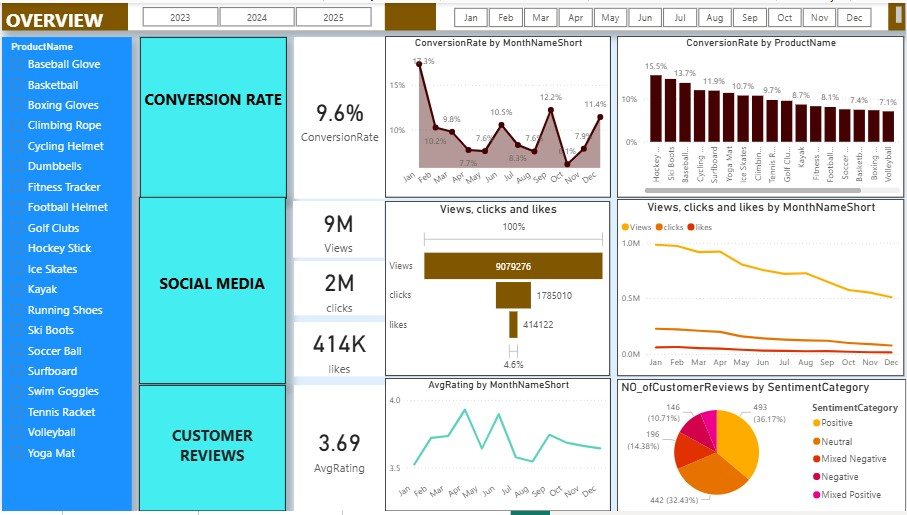

What the dashboard file says about the page in this screenshot:
{"tool":"powerbi","page":{"name":"Overview ","canvas":[1280,720],"ordinal":0},"visuals":[{"type":"textbox","box":[0,0,1280,38.8],"z":0},{"type":"slicer","fields":{"Values":["dim_products.ProductName"]},"box":[0,47.5,183.8,673.8],"z":1000},{"type":"textbox","box":[195,47.5,207.5,228.8],"z":2000},{"type":"textbox","box":[194.9,275.6,207.7,265.4],"z":3000},{"type":"textbox","box":[194.9,541,207.7,179.5],"z":4000},{"type":"card","fields":{"Values":["Calcultions_Measures.ConversionRate"]},"box":[413.8,47.5,130,228.8],"z":5000},{"type":"lineChart","fields":{"Y":["Calcultions_Measures.ConversionRate"],"Category":["Calendar.MonthNameShort"]},"box":[543.4,47,320.5,228.9],"z":6000},{"type":"card","fields":{"Values":["Calcultions_Measures.Views"]},"box":[412,280.7,128.9,79.5],"z":7000},{"type":"card","fields":{"Values":["Calcultions_Measures.clicks"]},"box":[413.3,366.3,128.9,77.1],"z":8000},{"type":"card","fields":{"Values":["Calcultions_Measures.likes"]},"box":[413.3,451.8,128.9,77.1],"z":9000},{"type":"card","fields":{"Values":["Calcultions_Measures.AvgRating"]},"box":[413.3,541,128.9,179.5],"z":10000},{"type":"slicer","fields":{"Values":["Calendar.Year"]},"box":[178.8,0,363.8,38.8],"z":11000},{"type":"slicer","fields":{"Values":["Calendar.MonthNameShort"]},"box":[615.7,0,641,38.6],"z":12000},{"type":"clusteredColumnChart","fields":{"Category":["dim_products.ProductName"],"Y":["Calcultions_Measures.ConversionRate"]},"box":[872.3,47,407.2,228.9],"z":13000},{"type":"funnel","fields":{"Y":["Calcultions_Measures.Views","Calcultions_Measures.clicks","Calcultions_Measures.likes"]},"box":[543.4,280.7,319.3,248.2],"z":14000},{"type":"lineChart","fields":{"Y":["Calcultions_Measures.Views","Calcultions_Measures.clicks","Calcultions_Measures.likes"],"Category":["Calendar.MonthNameShort"]},"box":[871.1,277.1,407.2,250.6],"z":15000},{"type":"lineChart","fields":{"Category":["Calendar.MonthNameShort"],"Y":["Calcultions_Measures.AvgRating"]},"box":[543.4,531.3,320.5,189.2],"z":16000},{"type":"pieChart","fields":{"Category":["fact_customer_reviews_with_sentiment.SentimentCategory"],"Y":["Calcultions_Measures.NO_ofCustomerReviews"]},"box":[871.1,532.5,409.6,189.2],"z":17001}]}

Visuals, with their boxes in screenshot pixels (x1, y1, x2, y2), scaled from the page's 1280x720 canvas onto the 907x515 screenshot:
textbox: rect(0, 0, 906, 28)
slicer - dim_products.ProductName: rect(0, 34, 130, 514)
textbox: rect(138, 34, 285, 198)
textbox: rect(138, 197, 285, 387)
textbox: rect(138, 387, 285, 514)
card - Calcultions_Measures.ConversionRate: rect(293, 34, 385, 198)
lineChart - Calcultions_Measures.ConversionRate x Calendar.MonthNameShort: rect(385, 34, 612, 197)
card - Calcultions_Measures.Views: rect(292, 201, 383, 258)
card - Calcultions_Measures.clicks: rect(293, 262, 384, 317)
card - Calcultions_Measures.likes: rect(293, 323, 384, 378)
card - Calcultions_Measures.AvgRating: rect(293, 387, 384, 514)
slicer - Calendar.Year: rect(127, 0, 384, 28)
slicer - Calendar.MonthNameShort: rect(436, 0, 890, 28)
clusteredColumnChart - dim_products.ProductName x Calcultions_Measures.ConversionRate: rect(618, 34, 906, 197)
funnel - Calcultions_Measures.Views x Calcultions_Measures.clicks: rect(385, 201, 611, 378)
lineChart - Calcultions_Measures.Views x Calcultions_Measures.clicks: rect(617, 198, 906, 377)
lineChart - Calendar.MonthNameShort x Calcultions_Measures.AvgRating: rect(385, 380, 612, 514)
pieChart - fact_customer_reviews_with_sentiment.SentimentCategory x Calcultions_Measures.NO_ofCustomerReviews: rect(617, 381, 906, 514)
